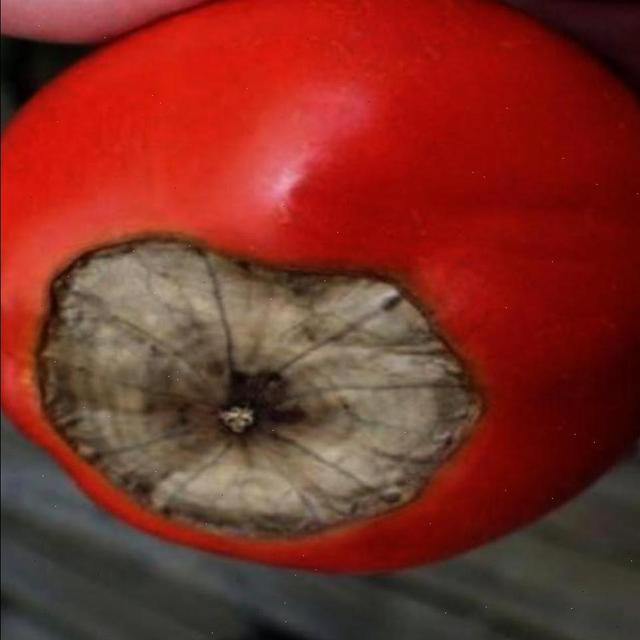Blossom End Rot Fruit: (19, 152, 342, 366)
